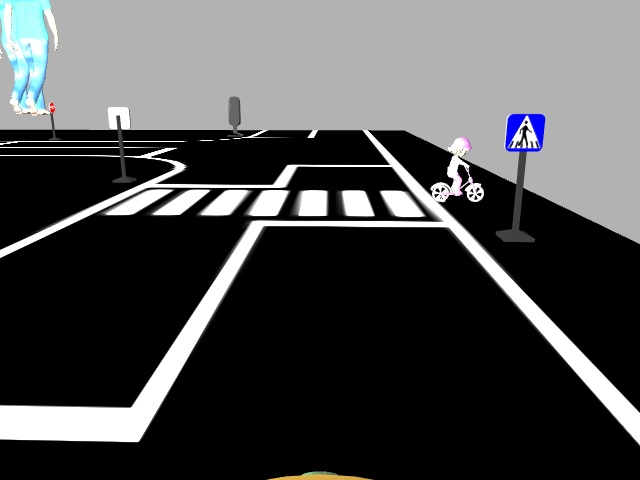Crosswalk: (502, 109, 548, 152)
Pedestrian: (424, 130, 488, 205)
